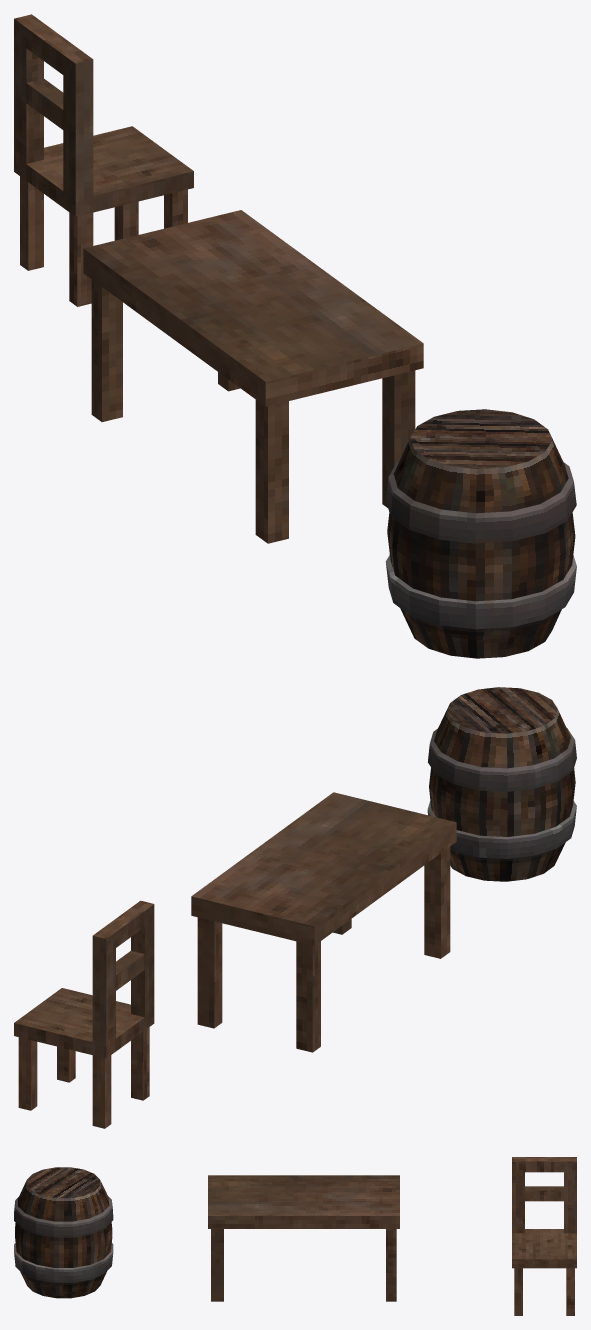
File: prop_tileset.glb
3 views of the same model, one above another, from view 1: azimuth 30°, elevation 25°; view 2: azimuth 150°, elevation 25°; view 3: azimuth 270°, elevation 25° (orthographic). The views are drawn at different scales.
Parts seen in each view (by area): view 1: table-col, barrel-col, chair-col; view 2: table-col, barrel-col, chair-col; view 3: table-col, barrel-col, chair-col.
Boxes of the visible parts, <box> form: table-col: <box>83,210,423,543</box>; barrel-col: <box>385,409,576,658</box>; chair-col: <box>14,14,193,306</box>; table-col: <box>191,792,456,1052</box>; barrel-col: <box>427,687,576,881</box>; chair-col: <box>14,900,154,1128</box>; table-col: <box>208,1175,399,1301</box>; barrel-col: <box>14,1167,113,1298</box>; chair-col: <box>512,1157,576,1315</box>.
Size of the model in its own units: 1.39 by 1.5 by 5.86.
Materials: 2 (2 with a texture image).
